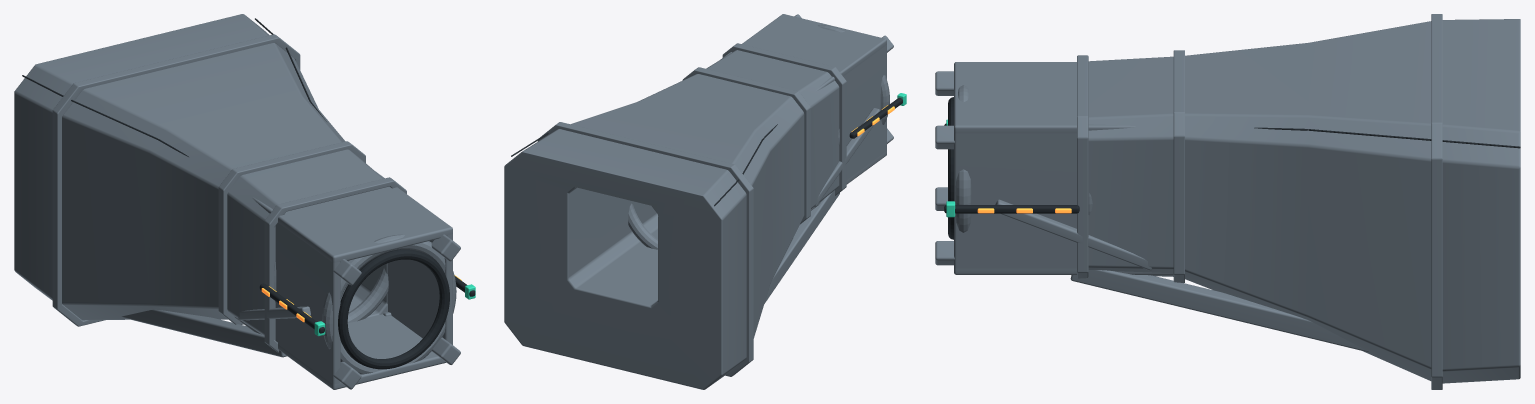
The model's file is docking-adapter.glb.
3 renders of one model, left to right at view 1: azimuth 30°, elevation 25°; view 2: azimuth 150°, elevation 25°; view 3: azimuth 270°, elevation 25°, orthographic. The views are drawn at different scales.
Visible parts, largest first — view 1: Dock foundation / tapered pressure housing / export, Pressure tunnel / deck.001 / export, Pressure tunnel / side / export, Dock foundation / structural band / export, Pressure tunnel / side.001 / export, Pressure tunnel / deck / export, Contact gasket / export, Dock foundation / structural band.001 / export, Dock foundation / lower load-bearing spine / export, Dock foundation / structural band.002 / export, Pressure collar.003 / export, Pressure collar.002 / export (+6 smaller); view 2: Dock foundation / tapered pressure housing / export, Pressure tunnel / deck.001 / export, Pressure tunnel / side / export, Dock foundation / structural band / export, Dock foundation / structural band.002 / export, Dock foundation / structural band.001 / export, Dock foundation / lower load-bearing spine / export, Dock foundation / collar diagonal support / export, Pressure collar / export, Pressure collar.003 / export, Guidance rail / export; view 3: Dock foundation / tapered pressure housing / export, Pressure tunnel / side.001 / export, Pressure tunnel / deck.001 / export, Dock foundation / lower load-bearing spine.001 / export, Dock foundation / structural band / export, Dock foundation / structural band.001 / export, Dock foundation / structural band.002 / export, Dock foundation / collar diagonal support.001 / export, Pressure tunnel / deck / export, Pressure collar.003 / export, Guidance rail.001 / export, Contact gasket / export.
Part boxes in pixels (left/top/right/bottom): Dock foundation / tapered pressure housing / export: left=14, top=14, right=388, bottom=340; Pressure tunnel / deck.001 / export: left=252, top=169, right=452, bottom=262; Pressure tunnel / side / export: left=275, top=223, right=340, bottom=384; Dock foundation / structural band / export: left=52, top=34, right=300, bottom=326; Pressure tunnel / side.001 / export: left=387, top=234, right=452, bottom=344; Pressure tunnel / deck / export: left=235, top=314, right=446, bottom=389; Contact gasket / export: left=338, top=249, right=449, bottom=369; Dock foundation / structural band.001 / export: left=218, top=141, right=365, bottom=324; Dock foundation / lower load-bearing spine / export: left=121, top=309, right=286, bottom=357; Dock foundation / structural band.002 / export: left=264, top=177, right=406, bottom=352; Pressure collar.003 / export: left=322, top=234, right=456, bottom=374; Pressure collar.002 / export: left=274, top=261, right=388, bottom=322; Dock foundation / tapered pressure housing / export: left=504, top=50, right=839, bottom=389; Pressure tunnel / deck.001 / export: left=720, top=14, right=886, bottom=91; Pressure tunnel / side / export: left=843, top=45, right=886, bottom=179; Dock foundation / structural band / export: left=537, top=122, right=753, bottom=376; Dock foundation / structural band.002 / export: left=722, top=43, right=846, bottom=195; Dock foundation / structural band.001 / export: left=682, top=67, right=810, bottom=224; Dock foundation / lower load-bearing spine / export: left=764, top=190, right=839, bottom=303; Dock foundation / collar diagonal support / export: left=814, top=108, right=879, bottom=206; Pressure collar / export: left=628, top=203, right=657, bottom=249; Pressure collar.003 / export: left=818, top=24, right=889, bottom=124; Guidance rail / export: left=849, top=98, right=902, bottom=138; Dock foundation / tapered pressure housing / export: left=1088, top=19, right=1520, bottom=383; Pressure tunnel / side.001 / export: left=954, top=133, right=1076, bottom=268; Pressure tunnel / deck.001 / export: left=954, top=62, right=1135, bottom=133; Dock foundation / lower load-bearing spine.001 / export: left=1070, top=270, right=1369, bottom=352; Dock foundation / structural band / export: left=1431, top=14, right=1442, bottom=389; Dock foundation / structural band.001 / export: left=1173, top=50, right=1184, bottom=282; Dock foundation / structural band.002 / export: left=1077, top=55, right=1088, bottom=278; Dock foundation / collar diagonal support.001 / export: left=995, top=199, right=1151, bottom=270; Pressure tunnel / deck / export: left=954, top=268, right=1173, bottom=274; Pressure collar.003 / export: left=955, top=85, right=971, bottom=232; Guidance rail.001 / export: left=944, top=205, right=1079, bottom=213; Contact gasket / export: left=948, top=97, right=953, bottom=239.
Bounding box in the file's own units: 4.99 × 4.58 × 9.09.
